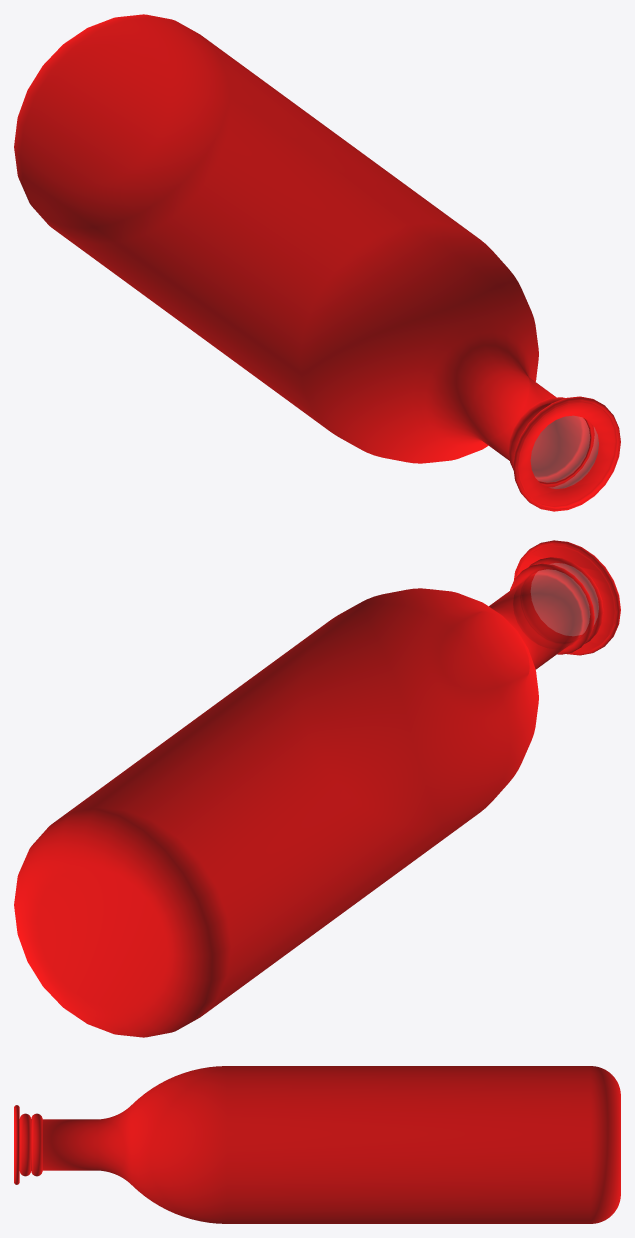
The model's file is model_align.obj.
3 renders of one model, top to bottom at view 1: azimuth 30°, elevation 25°; view 2: azimuth 150°, elevation 25°; view 3: azimuth 270°, elevation 25°, orthographic. The views are drawn at different scales.
Visible parts, largest first — view 1: mesh1_mesh1-geometry; view 2: mesh1_mesh1-geometry; view 3: mesh1_mesh1-geometry.
Part boxes in pixels (x1=…): mesh1_mesh1-geometry: x1=14, y1=14, x2=620, y2=511; mesh1_mesh1-geometry: x1=14, y1=540, x2=620, y2=1037; mesh1_mesh1-geometry: x1=14, y1=1066, x2=620, y2=1223.
Bounding box in the file's own units: 0.0358 × 0.0358 × 0.1372.
